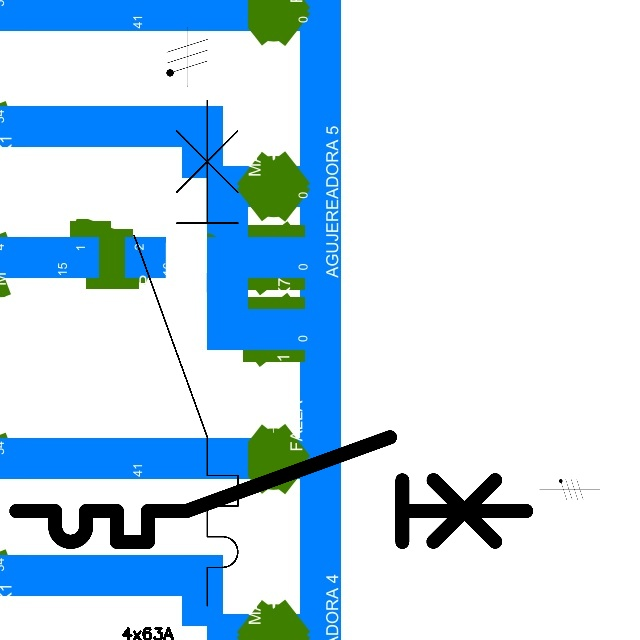interruptor_termomagnetico: (3, 424, 539, 555), (121, 87, 251, 619)
